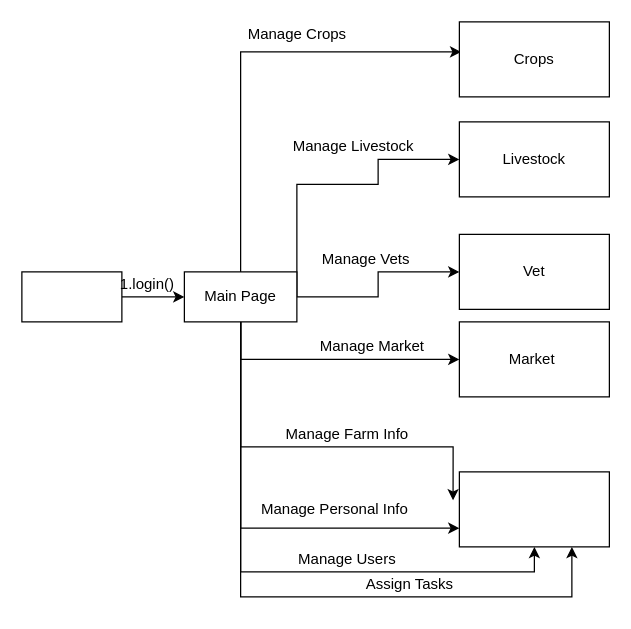
The diagram is 631 pixels wide and 629 high, and some of its shapes have lost their labels. Each missing label, with the centre of its shape:
"Farm" belongs at (533,509).
"Manager" belongs at (71,296).
